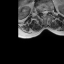CCS_normal: (43, 8, 46, 18)
LFS_normal: (48, 8, 50, 14)
LLS_normal: (46, 8, 48, 16)
RFS_normal: (39, 8, 41, 14)
RLS_normal: (41, 9, 43, 16)
